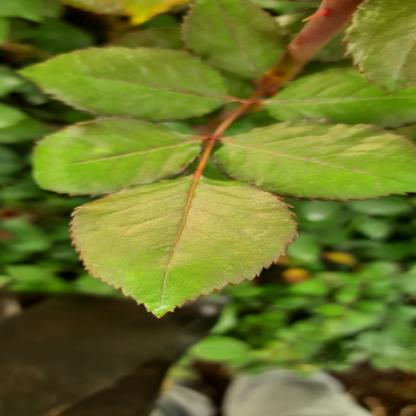normal: (69, 175, 290, 317), (220, 119, 410, 204), (19, 47, 227, 122), (25, 116, 200, 196), (180, 2, 299, 82), (267, 70, 413, 128)
